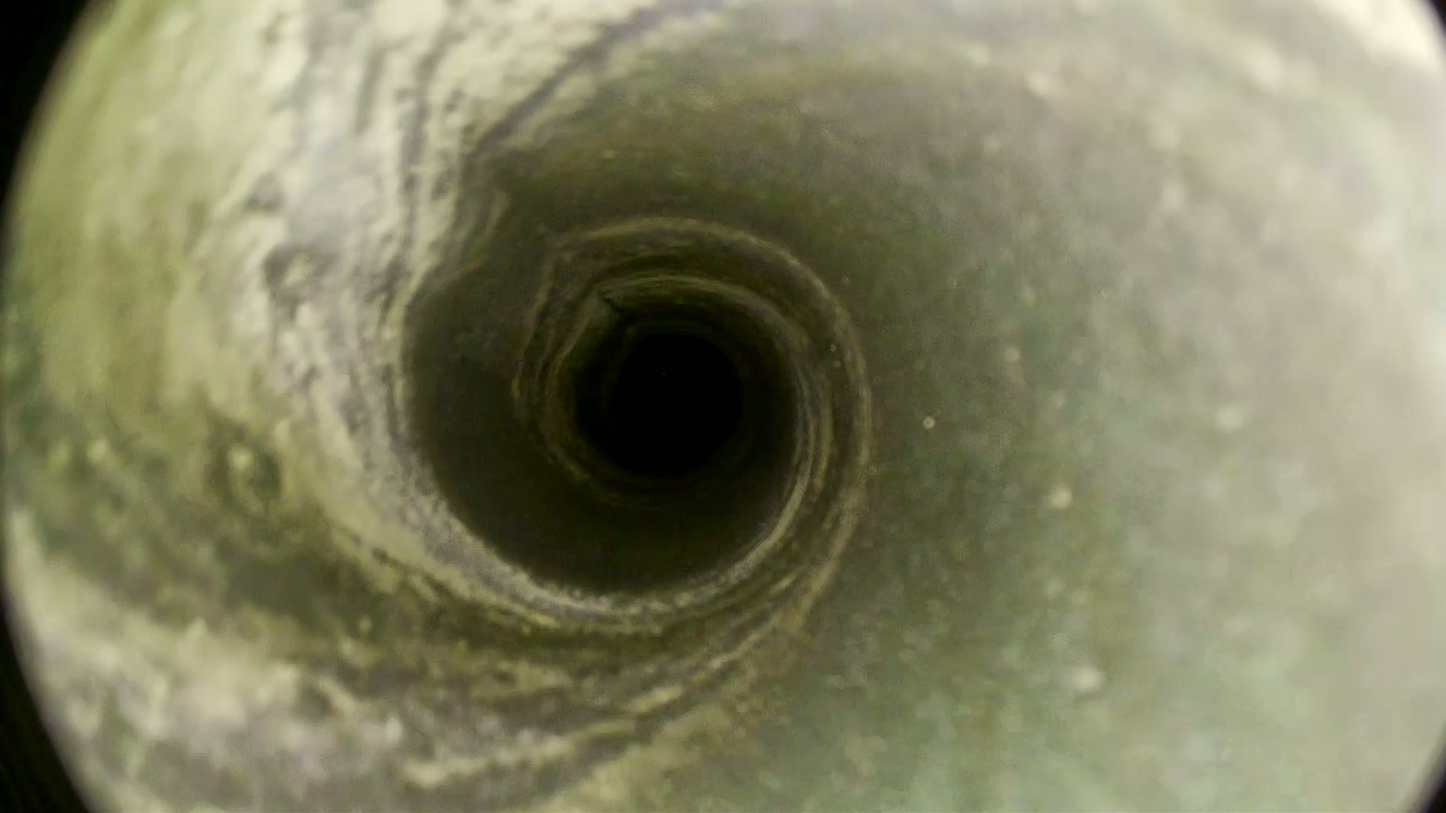hole: (612, 335, 740, 453)
